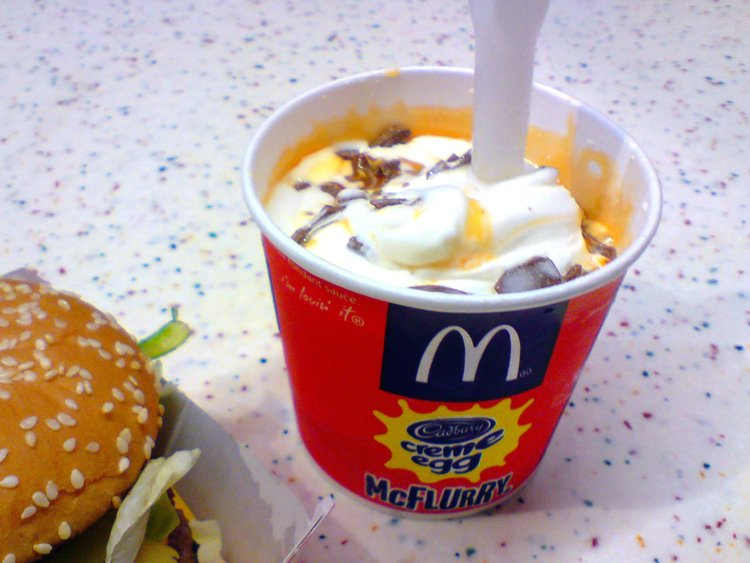mcdonalds: (414, 322, 524, 390)
